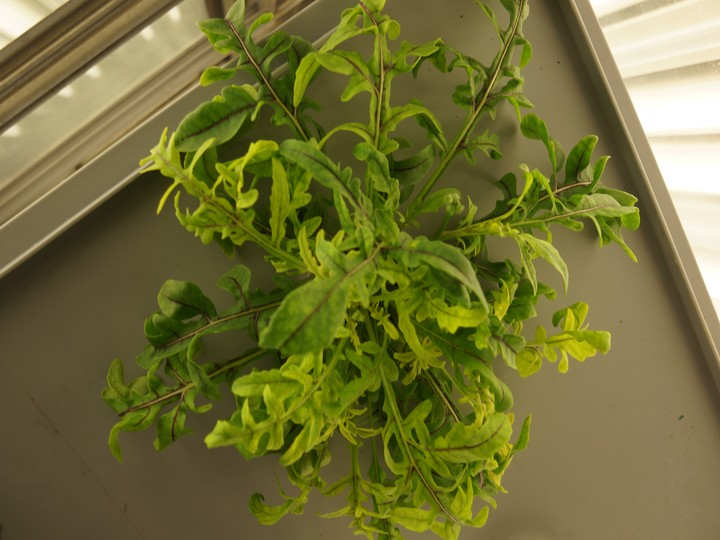roquette_sauvage_red_veined: (122, 3, 652, 540)
